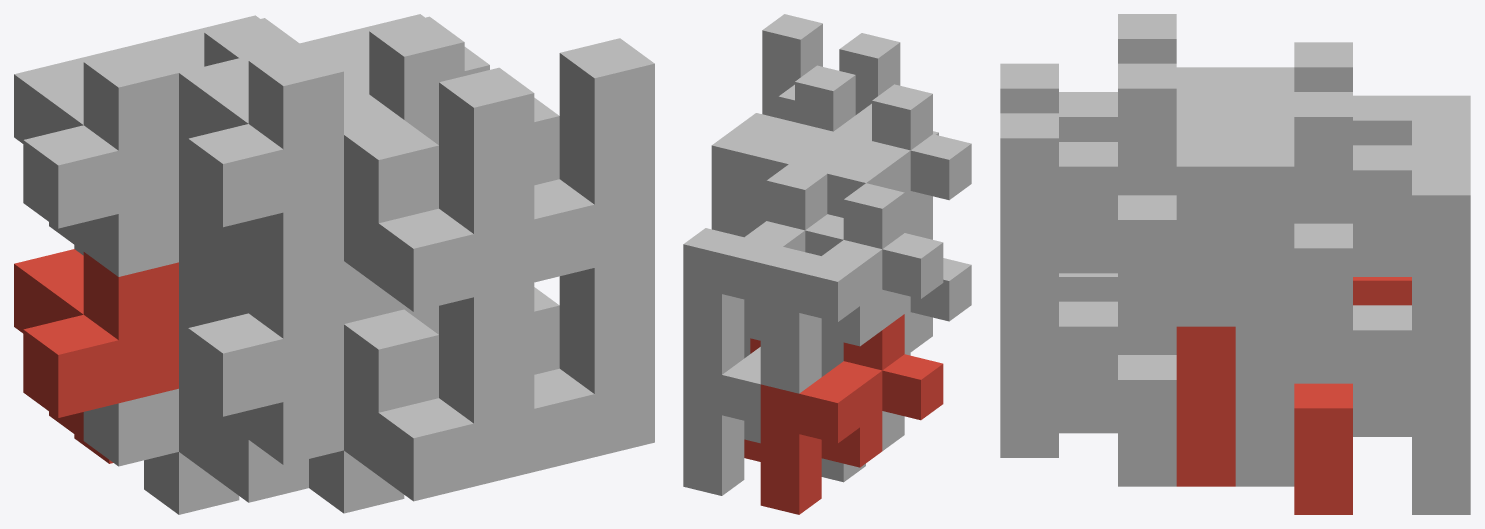
The model's file is tiling.obj.
3 renders of one model, left to right at view 1: azimuth 30°, elevation 25°; view 2: azimuth 150°, elevation 25°; view 3: azimuth 270°, elevation 25°, orthographic. The views are drawn at different scales.
Parts seen in each view (by area): view 1: copy_2_domain_4, copy_2_domain_2, copy_1_domain_3, copy_1_domain_4, copy_2_domain_8, copy_1_domain_1, copy_2_domain_6, copy_1_domain_2, copy_2_domain_1, copy_1_domain_8, copy_2_domain_3, copy_1_domain_7; view 2: copy_1_domain_3, copy_1_domain_1, copy_1_domain_7, copy_1_domain_4, copy_1_domain_8, copy_1_domain_5, copy_2_domain_8, copy_2_domain_4, copy_1_domain_2, copy_2_domain_3, copy_2_domain_7, copy_2_domain_1 (+2 smaller); view 3: copy_1_domain_7, copy_2_domain_8, copy_2_domain_6, copy_1_domain_8, copy_1_domain_5, copy_2_domain_7, copy_2_domain_5, copy_1_domain_6, copy_1_domain_3, copy_1_domain_4, copy_2_domain_4, copy_1_domain_1 (+2 smaller).
Part boxes in pixels (box(x1,y1,x2,y2)): copy_2_domain_4: box(248, 67, 534, 323); copy_2_domain_2: box(248, 282, 534, 513); copy_1_domain_3: box(14, 45, 178, 255); copy_1_domain_4: box(179, 43, 343, 249); copy_2_domain_8: box(534, 38, 654, 282); copy_1_domain_1: box(14, 249, 178, 463); copy_2_domain_6: box(534, 253, 654, 471); copy_1_domain_2: box(179, 250, 343, 439); copy_2_domain_1: box(83, 326, 308, 514); copy_1_domain_8: box(300, 14, 464, 144); copy_2_domain_3: box(83, 76, 368, 312); copy_1_domain_7: box(135, 15, 299, 72); copy_1_domain_3: box(760, 183, 943, 393); copy_1_domain_1: box(760, 314, 943, 514); copy_1_domain_7: box(683, 164, 843, 374); copy_1_domain_4: box(789, 84, 971, 233); copy_1_domain_8: box(711, 65, 871, 237); copy_1_domain_5: box(683, 347, 843, 495); copy_2_domain_8: box(762, 14, 822, 121); copy_2_domain_4: box(839, 33, 938, 230); copy_1_domain_2: box(904, 215, 971, 354); copy_2_domain_3: box(811, 131, 910, 360); copy_2_domain_7: box(734, 113, 794, 340); copy_2_domain_1: box(821, 353, 910, 482); copy_1_domain_7: box(1294, 92, 1470, 354); copy_2_domain_8: box(1000, 113, 1176, 326); copy_2_domain_6: box(1000, 298, 1176, 486); copy_1_domain_8: box(1118, 63, 1294, 326); copy_1_domain_5: box(1294, 305, 1470, 514); copy_2_domain_7: box(1176, 142, 1352, 354); copy_2_domain_5: box(1176, 326, 1352, 514); copy_1_domain_6: box(1118, 326, 1294, 486); copy_1_domain_3: box(1294, 42, 1470, 145); copy_1_domain_4: box(1118, 14, 1294, 116); copy_2_domain_4: box(1000, 63, 1117, 141); copy_1_domain_1: box(1353, 277, 1411, 305).
Bounding box in the file's own units: 7 × 8 × 8.
